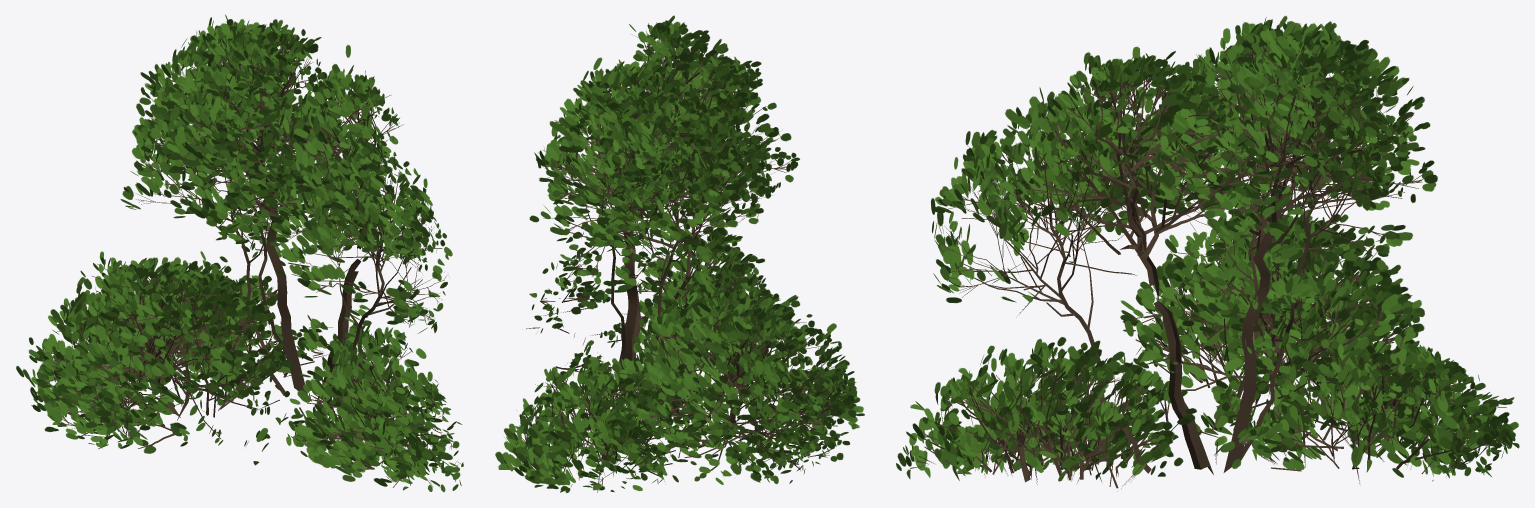
The picture shows the model from 3 angles, left to right: view 1: azimuth 30°, elevation 25°; view 2: azimuth 150°, elevation 25°; view 3: azimuth 270°, elevation 25°; orthographic projection. The views are drawn at different scales.
Parts seen in each view (by area): view 1: oak 01.001_trunk_Mat.001_0.493; view 2: oak 01.001_trunk_Mat.001_0.493; view 3: oak 01.001_trunk_Mat.001_0.493.
Part boxes in pixels (bbox=[...]): oak 01.001_trunk_Mat.001_0.493: bbox=[16, 14, 463, 492]; oak 01.001_trunk_Mat.001_0.493: bbox=[495, 15, 864, 492]; oak 01.001_trunk_Mat.001_0.493: bbox=[896, 16, 1519, 491].
Size of the model in its own units: 4.05 by 5.21 by 6.51.
2 materials, 1 textured.
